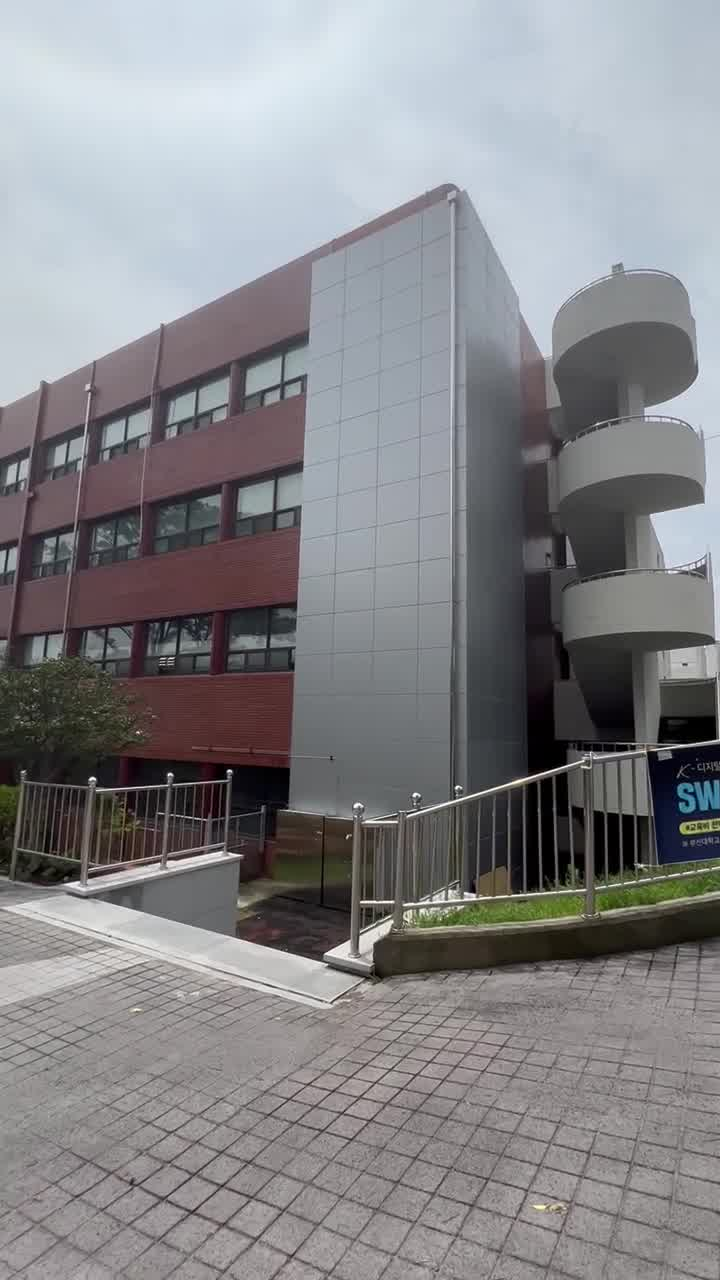low: (72, 180, 720, 726)
